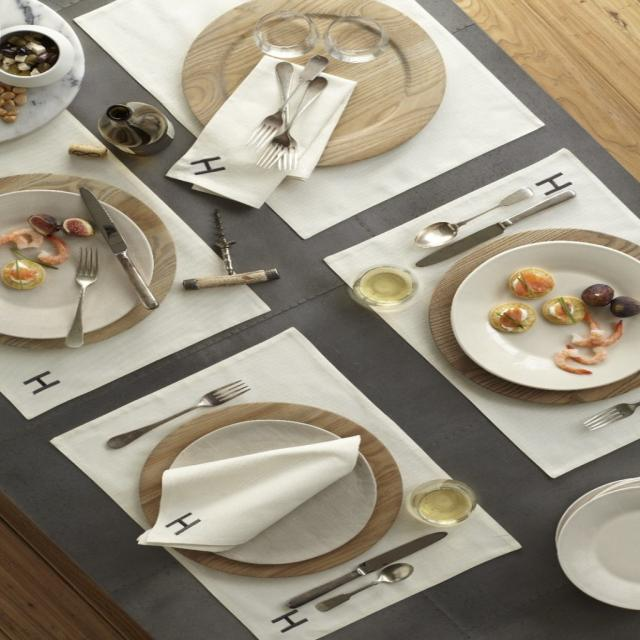non-organic waste: (109, 406, 441, 603), (176, 8, 487, 180), (371, 228, 640, 404)
